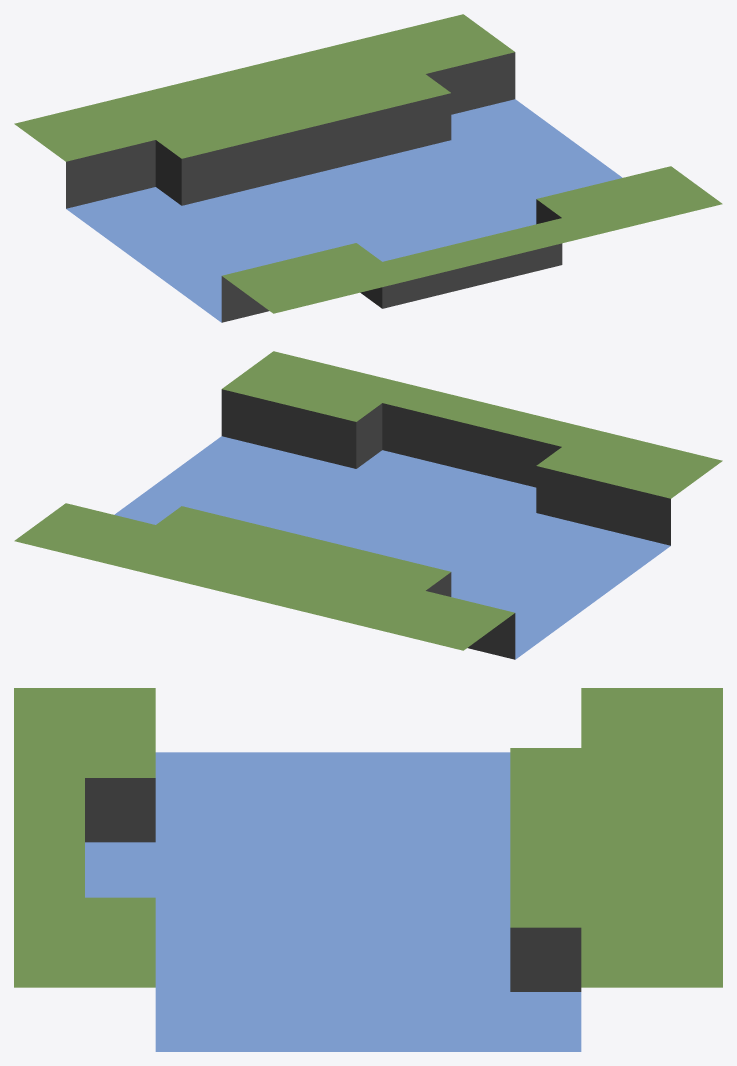
File: terrain_river_2.fbx
3 views of the same model, one above another, from view 1: azimuth 30°, elevation 25°; view 2: azimuth 150°, elevation 25°; view 3: azimuth 270°, elevation 25° (orthographic). The views are drawn at different scales.
Parts seen in each view (by area): view 1: Grid.037; view 2: Grid.037; view 3: Grid.037.
Boxes of the visible parts, left/top/right/bottom form: Grid.037: left=14, top=14, right=722, bottom=322; Grid.037: left=14, top=351, right=722, bottom=659; Grid.037: left=14, top=688, right=722, bottom=1051.
Size of the model in its own units: 200 by 20 by 200.
